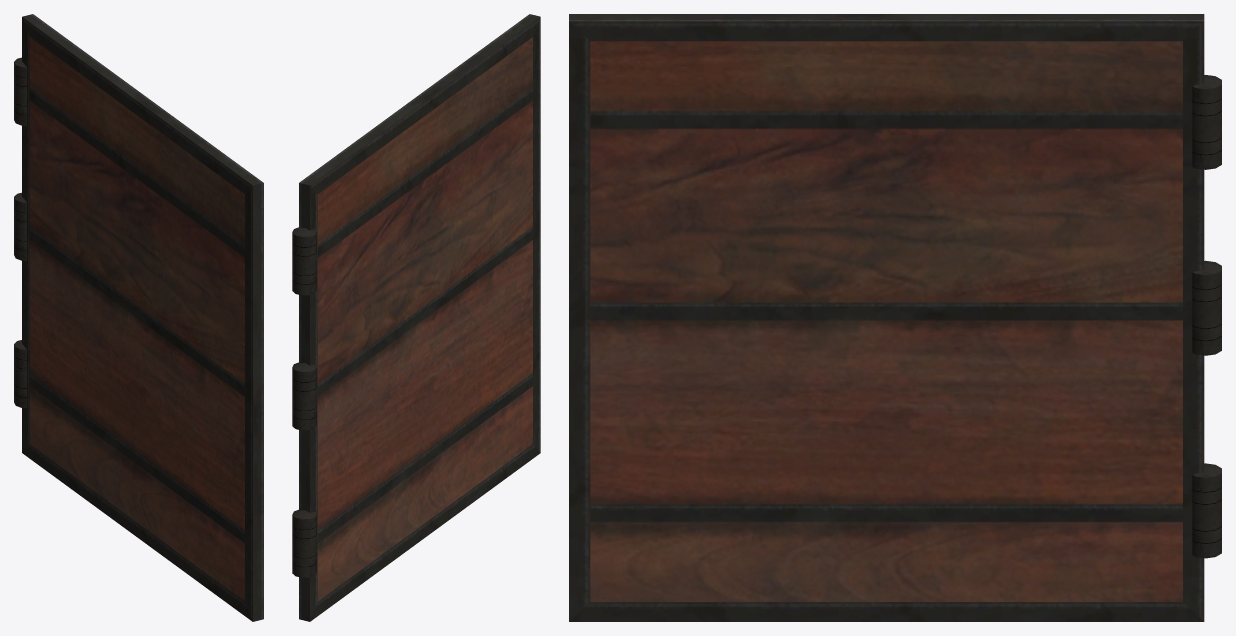
Rendered from desk_reception_door.dae.
The picture shows the model from 3 angles, left to right: view 1: azimuth 30°, elevation 25°; view 2: azimuth 150°, elevation 25°; view 3: azimuth 270°, elevation 25°; orthographic projection. The views are drawn at different scales.
Visible parts, largest first — view 1: polySurface196; view 2: polySurface196; view 3: polySurface196.
Boxes of the visible parts, x1=… form: polySurface196: x1=14, y1=14, x2=263, y2=621; polySurface196: x1=292, y1=14, x2=540, y2=621; polySurface196: x1=569, y1=14, x2=1221, y2=621.
Size of the model in its own units: 5.93 by 114 by 113.
